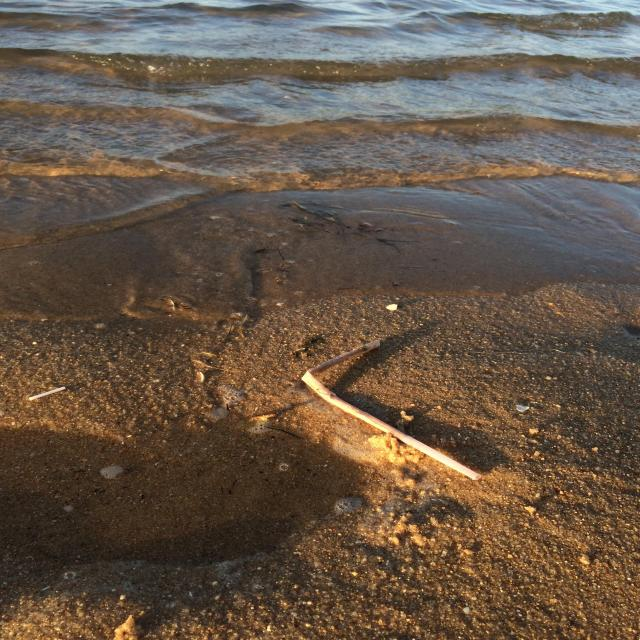Other plastic bottle: (29, 386, 66, 401)
Plastic straw: (301, 340, 482, 480)
